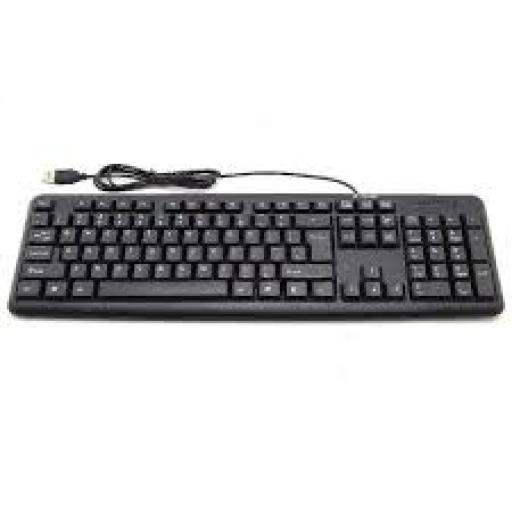keyboard: (10, 191, 504, 329)
